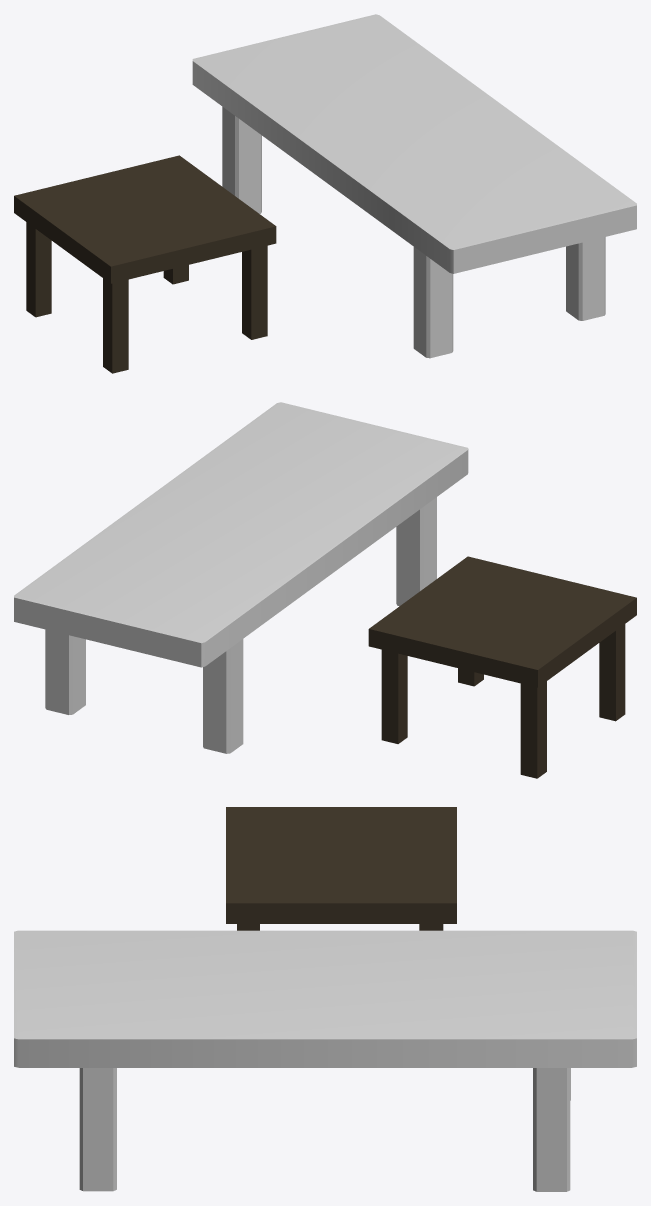
File: Tables.fbx
3 renders of one model, top to bottom at view 1: azimuth 30°, elevation 25°; view 2: azimuth 150°, elevation 25°; view 3: azimuth 270°, elevation 25°, orthographic. The views are drawn at different scales.
Visible parts, largest first — view 1: Desktop, SmallTable; view 2: Desktop, SmallTable; view 3: Desktop, SmallTable.
Part boxes in pixels (x1=…): Desktop: x1=192, y1=14, x2=636, y2=358; SmallTable: x1=14, y1=155, x2=276, y2=373; Desktop: x1=14, y1=402, x2=468, y2=753; SmallTable: x1=368, y1=556, x2=636, y2=778; Desktop: x1=14, y1=930, x2=636, y2=1191; SmallTable: x1=226, y1=807, x2=456, y2=930.
Bounding box in the file's own units: 2.26 × 0.6496 × 2.33.
